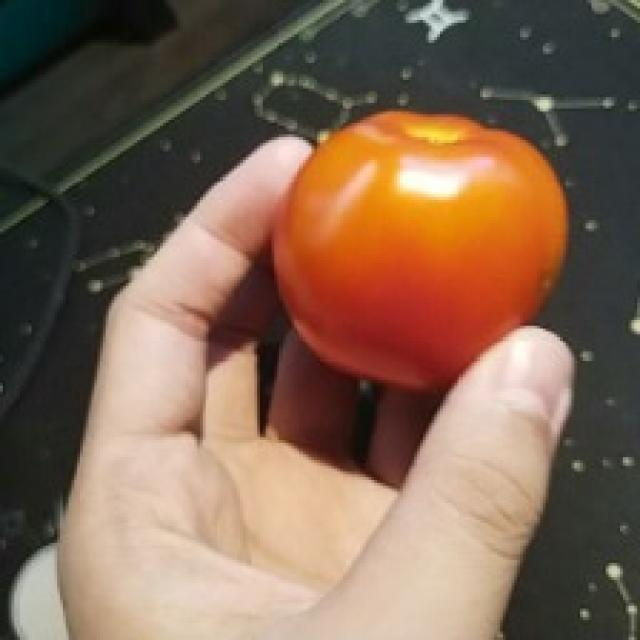Fresh Tomato: (262, 95, 578, 397)
